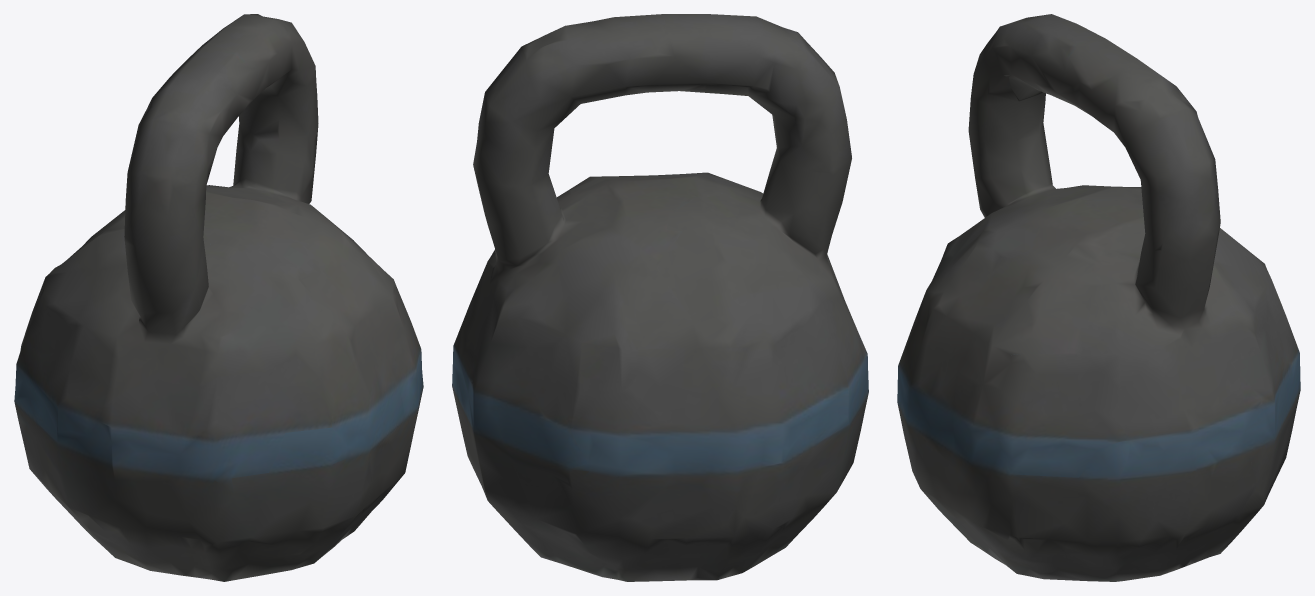
File: kettlebell.glb
3 views of the same model, side by side, from view 1: azimuth 30°, elevation 25°; view 2: azimuth 150°, elevation 25°; view 3: azimuth 270°, elevation 25° (orthographic). The views are drawn at different scales.
Visible parts, largest first — view 1: tripo_node_895ec8d1-4062-4729-891f-85347d0d02e2; view 2: tripo_node_895ec8d1-4062-4729-891f-85347d0d02e2; view 3: tripo_node_895ec8d1-4062-4729-891f-85347d0d02e2.
Part boxes in pixels (x1,y1,x2,y2): tripo_node_895ec8d1-4062-4729-891f-85347d0d02e2: (14, 14, 423, 581); tripo_node_895ec8d1-4062-4729-891f-85347d0d02e2: (452, 14, 868, 581); tripo_node_895ec8d1-4062-4729-891f-85347d0d02e2: (897, 14, 1300, 581).
Size of the model in its own units: 0.7456 by 1 by 0.7548.
1 material, 1 textured.
